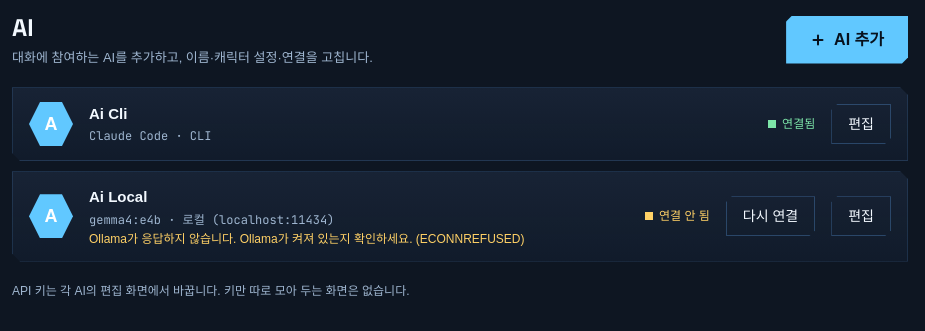
Test: AiTab — roster › shows a failed reconnect on the row
Click the button with test id "settings-ai-reconnect": point(770, 216) x1=726 y1=196 x2=815 y2=236
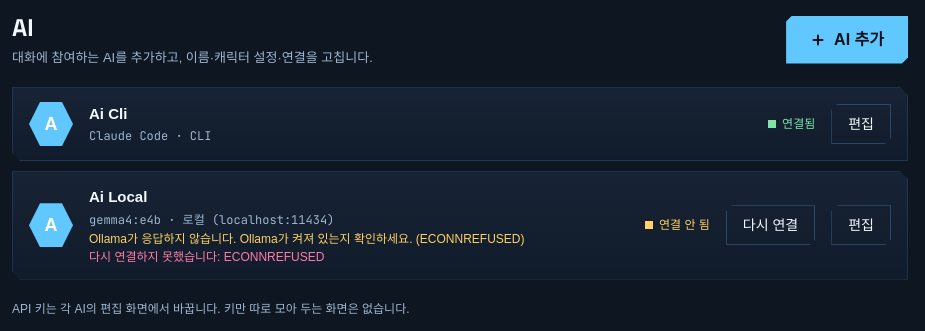
Expected: the message with test id "settings-ai-reconnect-error" shows "ECONNREFUSED", x1=89 y1=250 x2=324 y2=264
